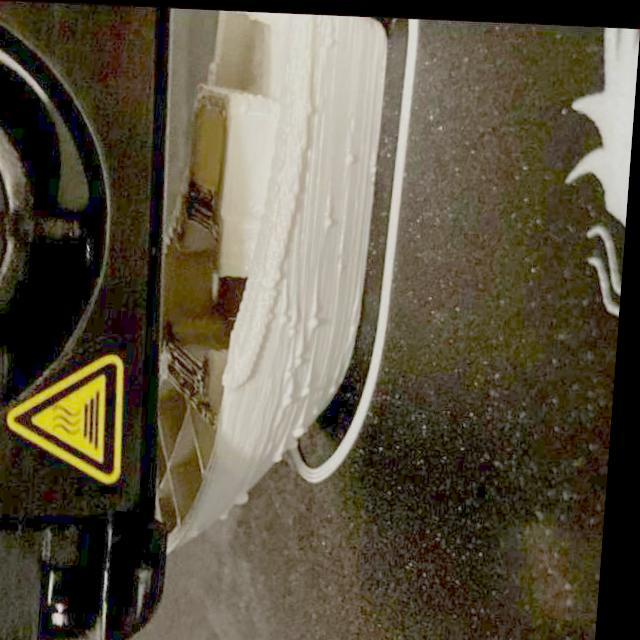zits: (274, 302, 299, 332), (302, 378, 326, 403), (308, 308, 333, 332), (294, 418, 318, 437), (341, 148, 360, 170), (294, 350, 312, 371), (237, 487, 260, 503), (323, 208, 340, 229), (284, 390, 301, 408), (276, 447, 293, 464)
